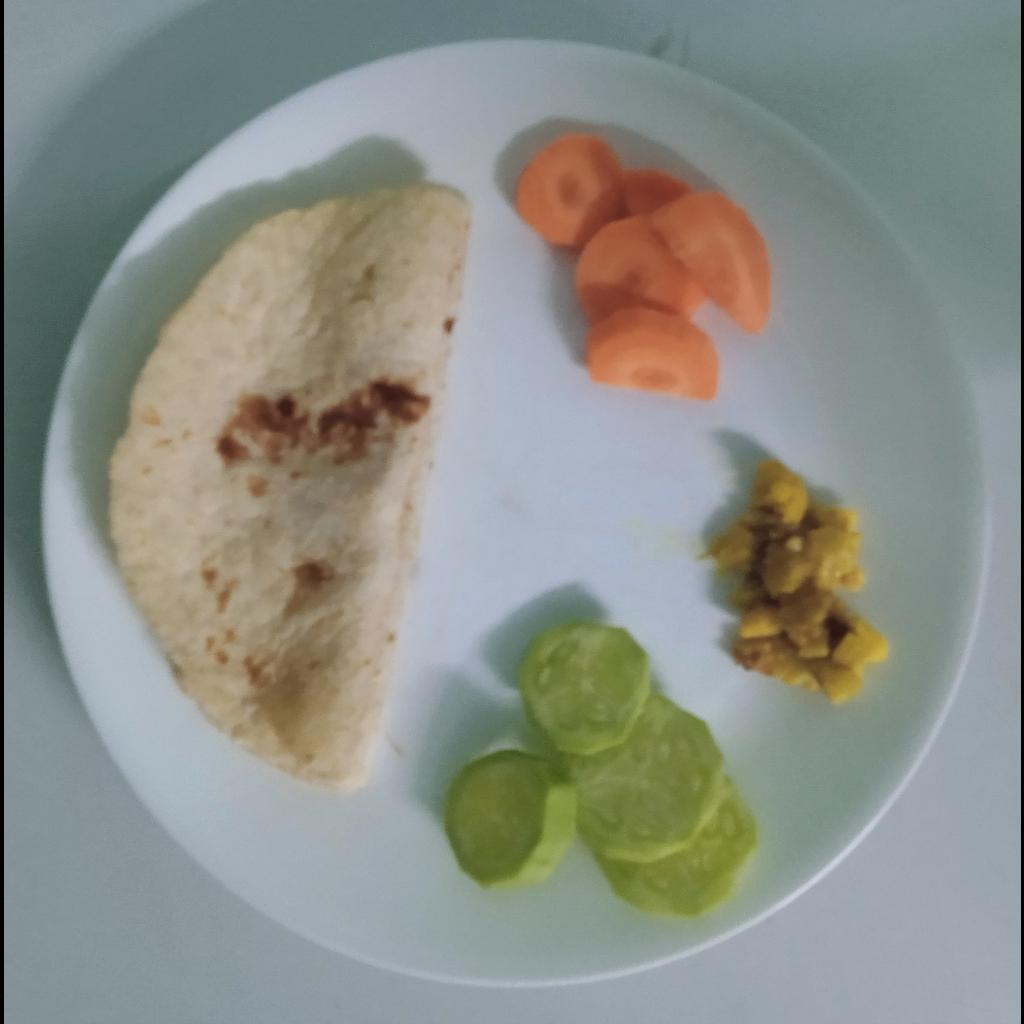carrot: (517, 134, 771, 402)
cucumber: (444, 619, 760, 919)
kumra-vaji: (710, 467, 890, 704)
ruti: (108, 186, 473, 794)
